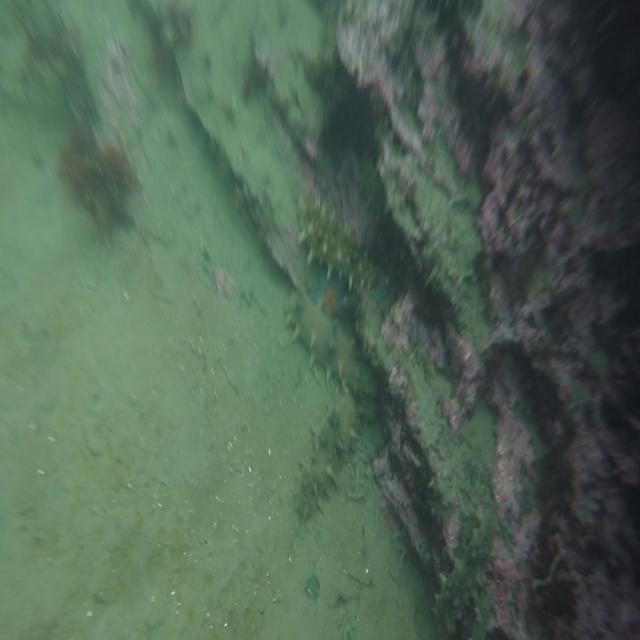holothurian: (281, 287, 380, 396), (290, 188, 386, 290), (291, 396, 358, 521)
